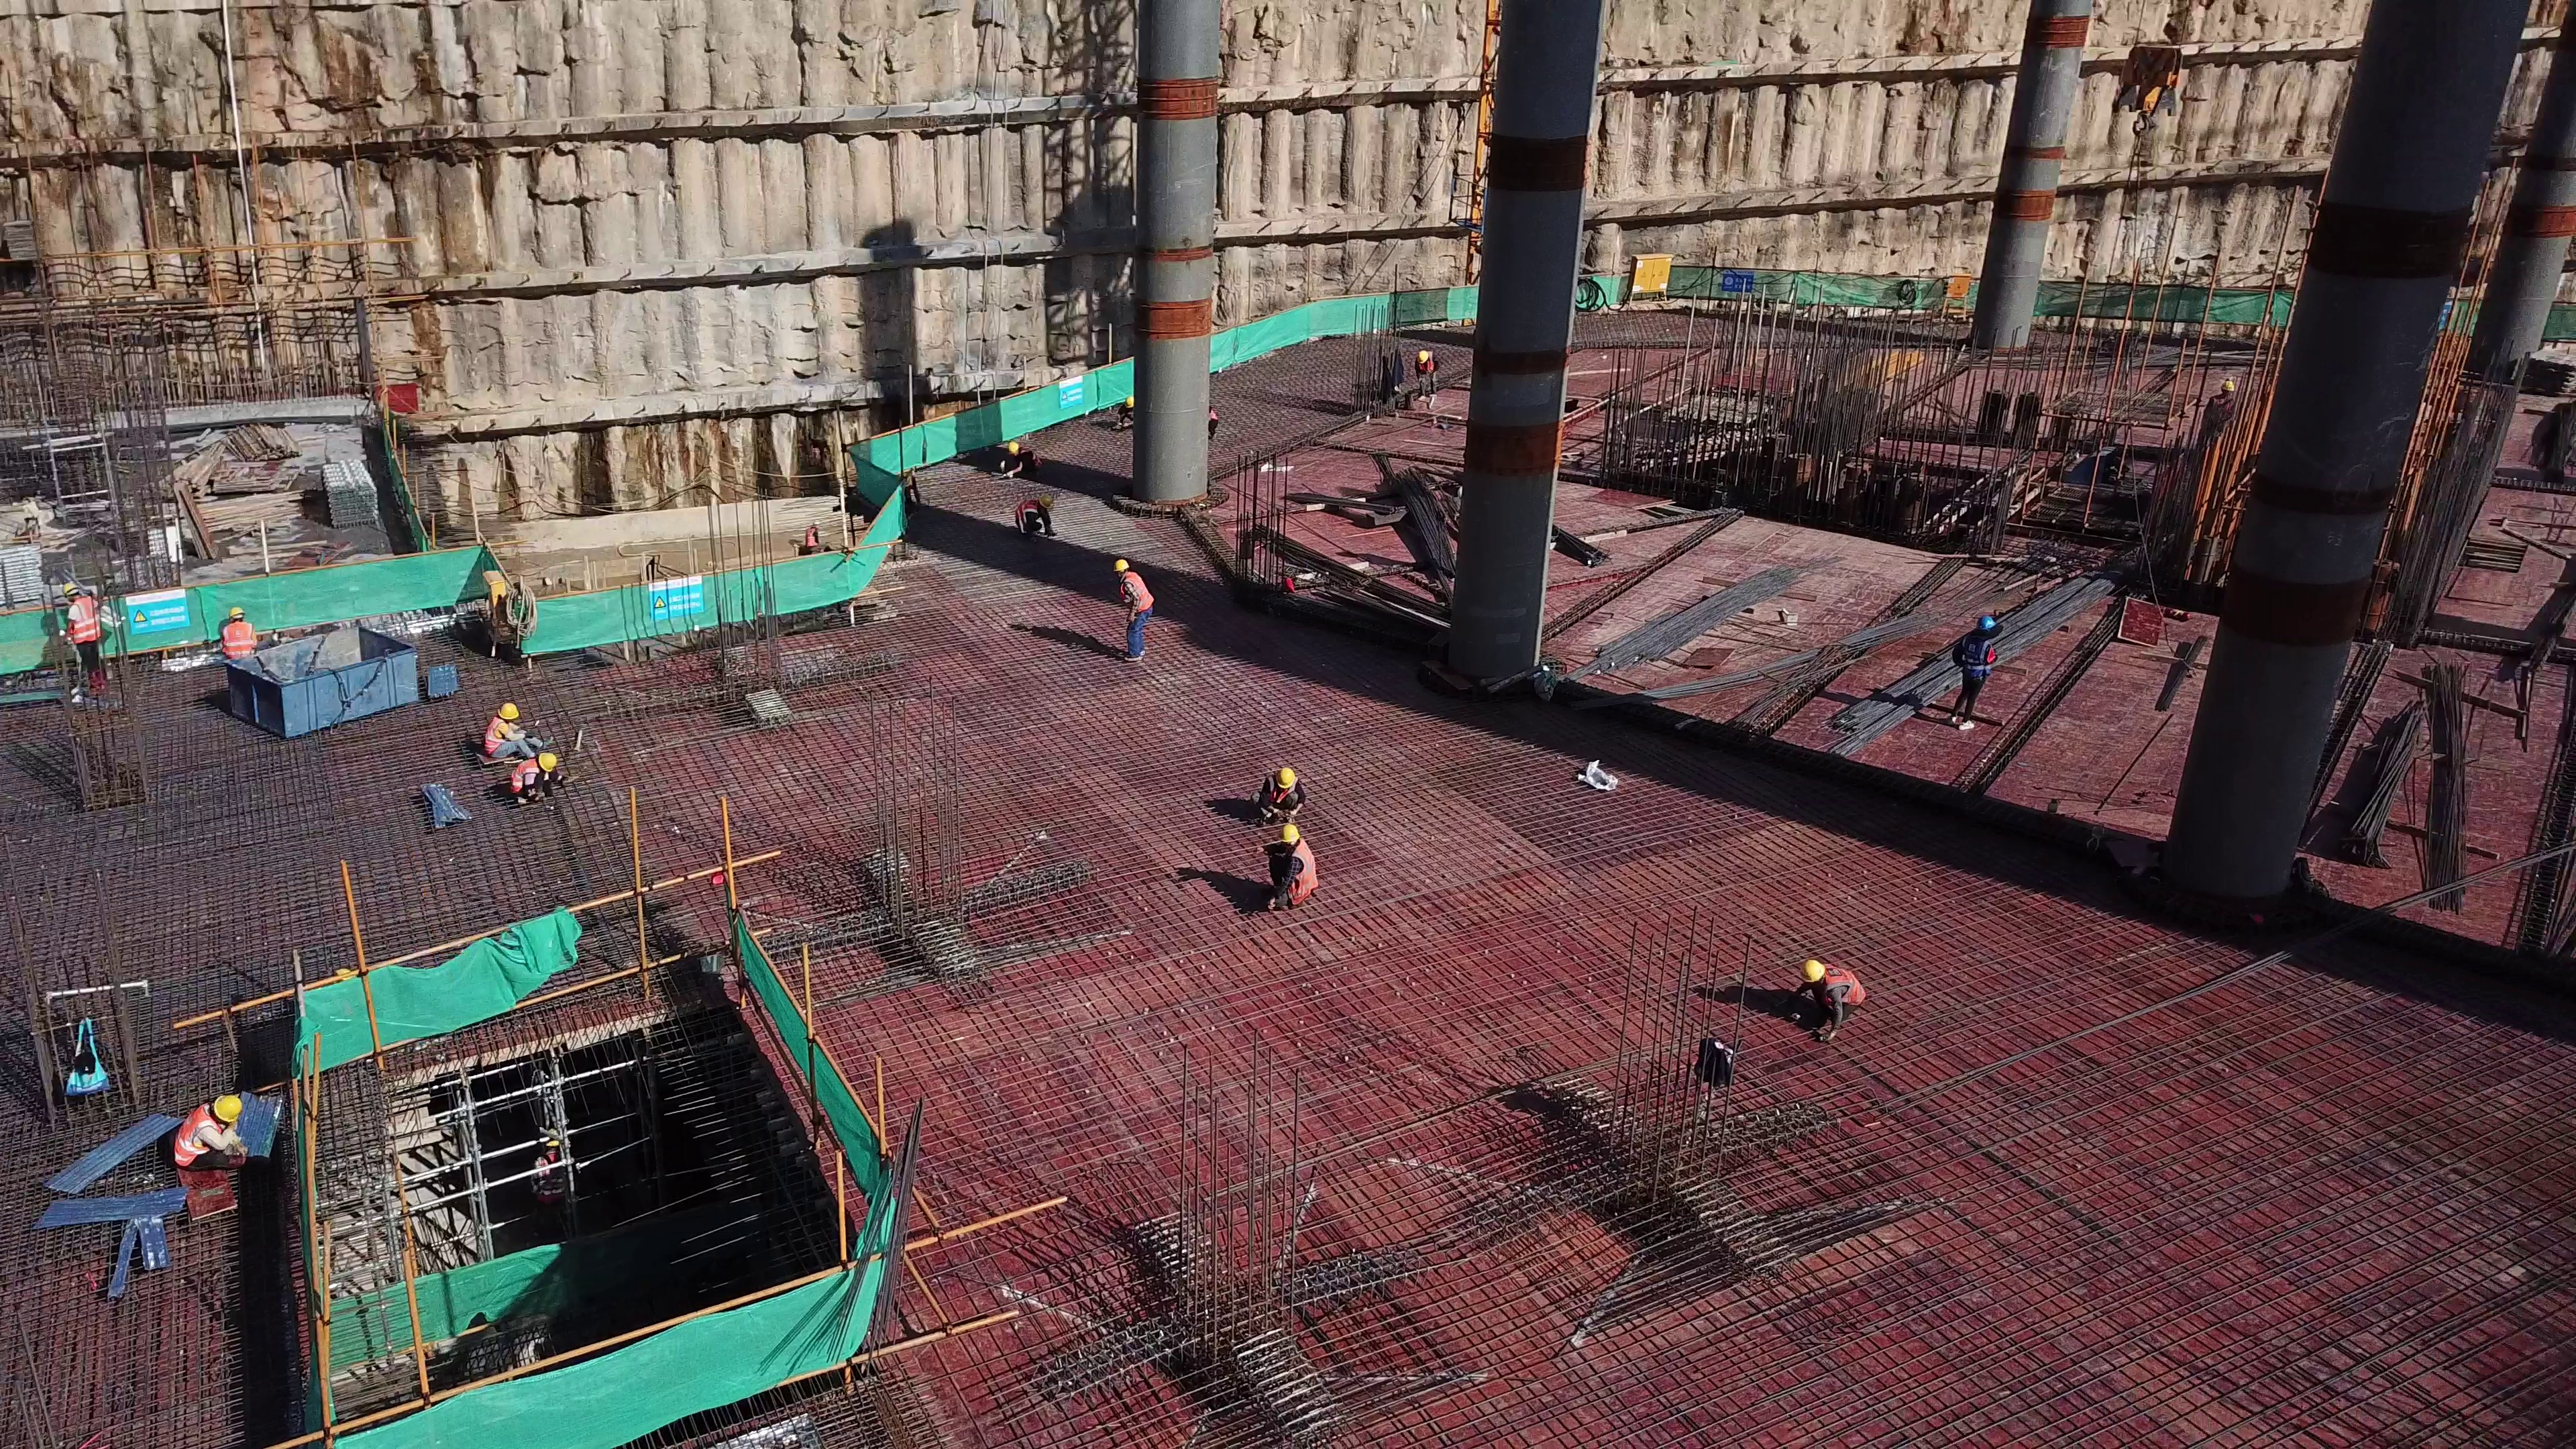helmet: (1797, 959, 1828, 988), (213, 1096, 239, 1123), (63, 580, 93, 601), (1974, 616, 1998, 635), (1275, 764, 1293, 788), (1284, 822, 1302, 846), (1115, 557, 1132, 575), (541, 753, 557, 771), (498, 703, 519, 717), (225, 605, 244, 620), (1040, 494, 1057, 505), (1006, 441, 1020, 453), (1415, 348, 1427, 364), (2220, 379, 2233, 389), (1123, 398, 1133, 406)
person: (166, 1089, 248, 1193), (52, 578, 102, 708), (1954, 610, 2005, 730), (1792, 957, 1864, 1039), (1263, 830, 1326, 918), (1109, 555, 1148, 663), (474, 700, 539, 761), (1250, 763, 1310, 820), (499, 749, 561, 800), (213, 607, 259, 672), (1010, 492, 1054, 541), (2199, 377, 2230, 445), (1415, 342, 1438, 415), (996, 437, 1036, 476), (1110, 396, 1133, 434), (802, 523, 821, 551)
vest: (169, 1110, 223, 1169), (63, 598, 106, 656), (1959, 635, 1995, 690), (1281, 847, 1317, 902), (1824, 969, 1867, 1011), (1118, 568, 1152, 612), (219, 623, 255, 663), (482, 720, 510, 755), (506, 759, 537, 789), (2208, 393, 2232, 432), (1014, 499, 1038, 530), (1419, 357, 1438, 376)
